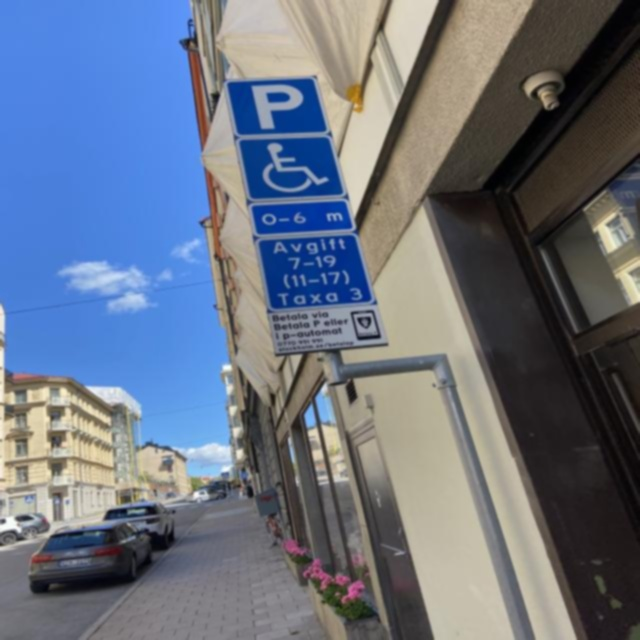P-skylt: (223, 77, 332, 137)
